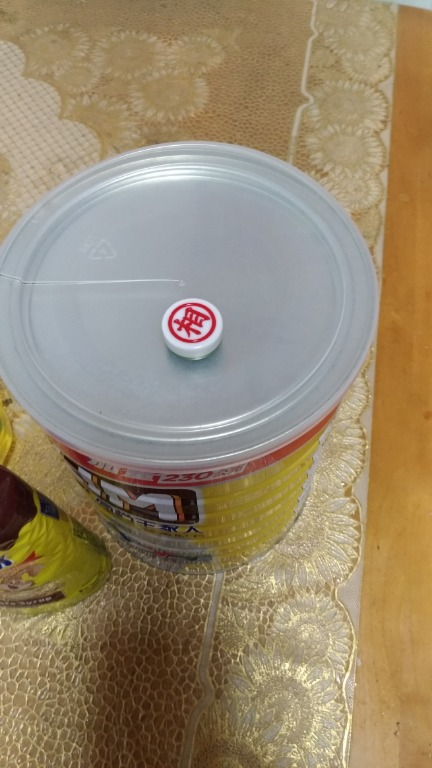r-elephant: (148, 289, 234, 360)
